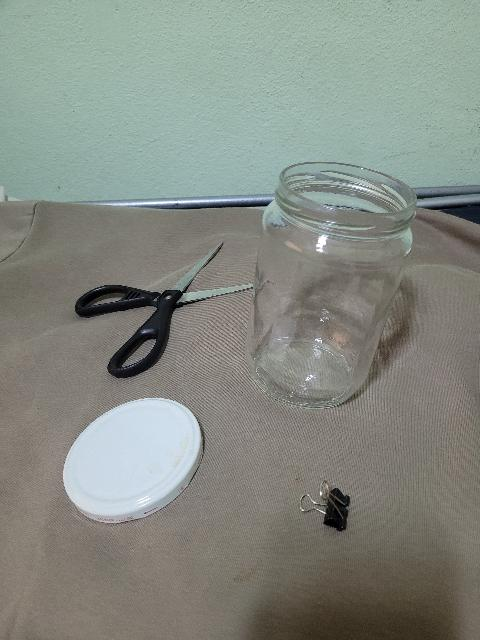Cam: (253, 163, 416, 404)
Metal: (165, 240, 254, 309), (295, 475, 366, 536)
Plastik: (62, 394, 204, 520), (73, 281, 184, 382)
